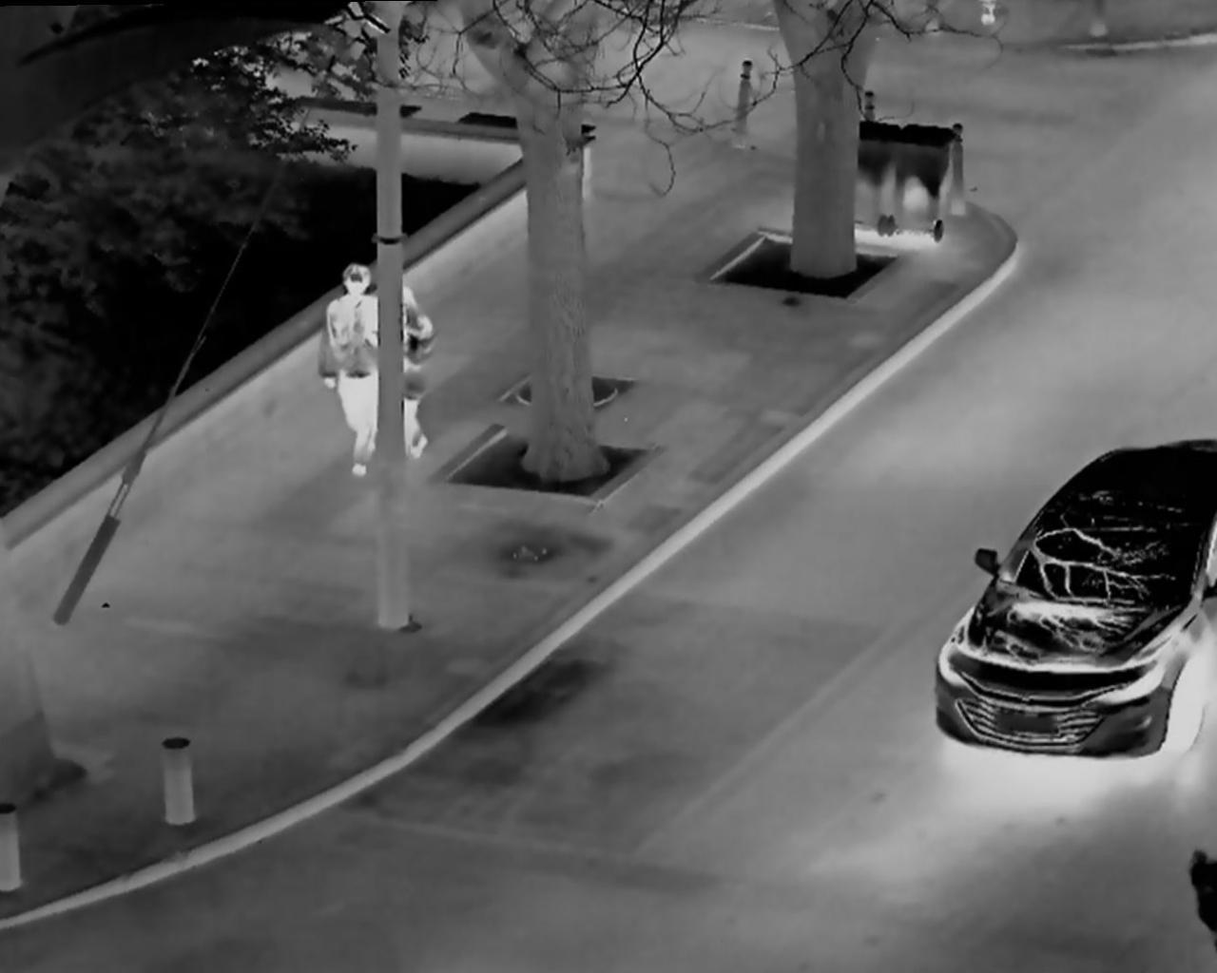person: (319, 257, 392, 495), (383, 281, 446, 467)
